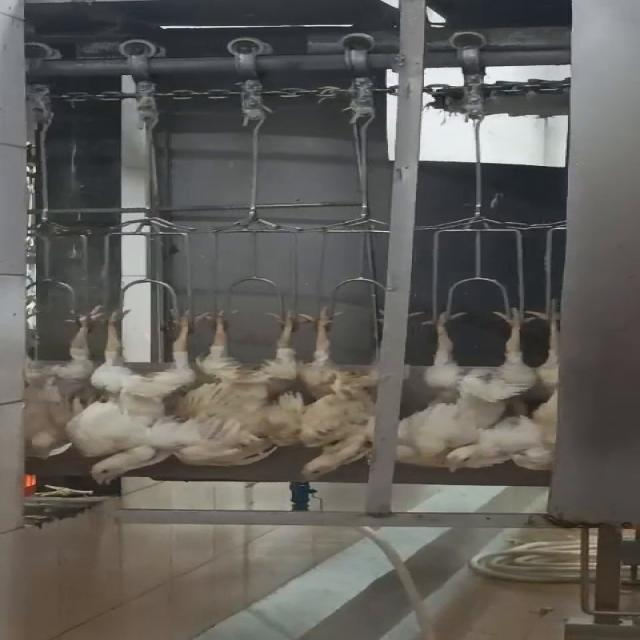chicken: (59, 303, 208, 489), (396, 297, 526, 474), (290, 304, 402, 483), (188, 300, 306, 466), (0, 298, 107, 465), (510, 297, 576, 469)
